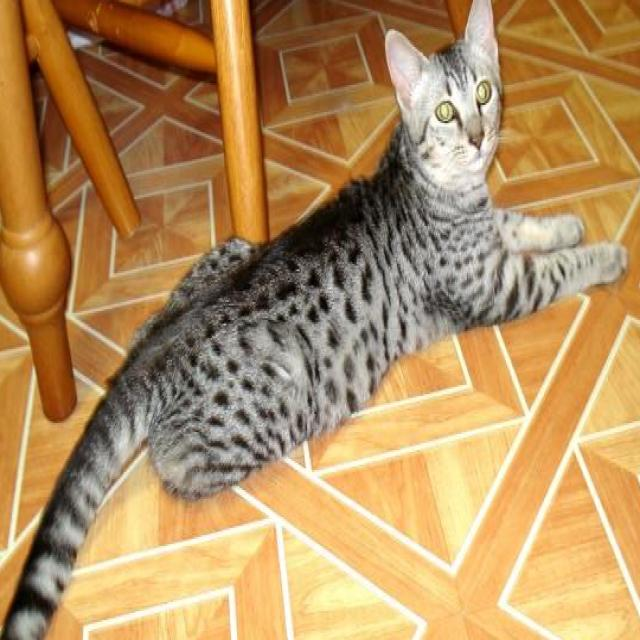Egyptian Mau: (0, 0, 632, 640)
